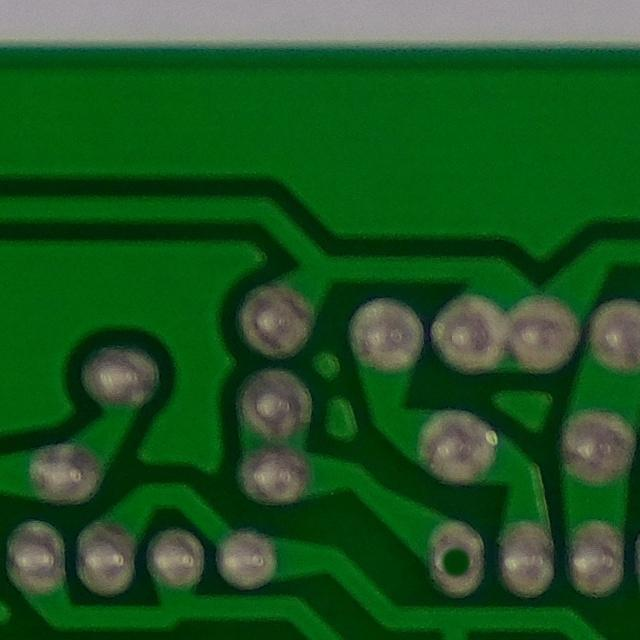missing_hole: (412, 510, 491, 601)
